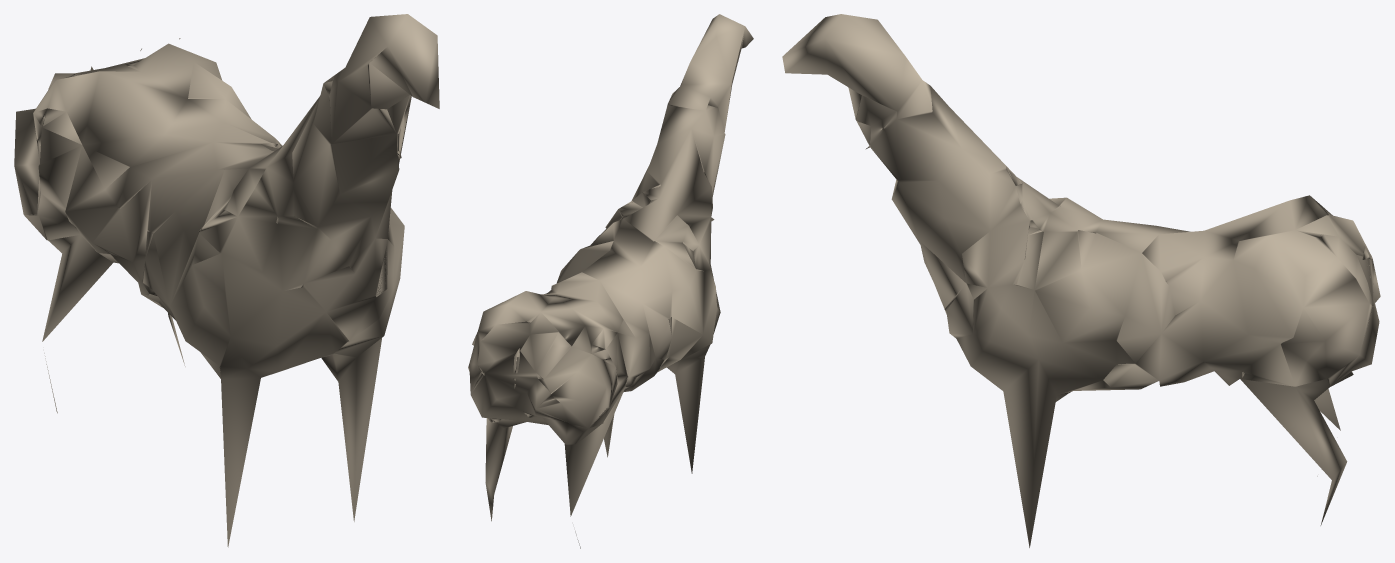
Rendered from alpaka.glb.
3 views of the same model, side by side, from view 1: azimuth 30°, elevation 25°; view 2: azimuth 150°, elevation 25°; view 3: azimuth 270°, elevation 25° (orthographic). The views are drawn at different scales.
Parts seen in each view (by area): view 1: lack; view 2: lack; view 3: lack.
Boxes of the visible parts, x1,y1,x2,y2 form: lack: (14,14,439,547); lack: (468,14,753,548); lack: (782,14,1380,547).
Size of the model in its own units: 0.5686 by 1.5 by 1.59.
